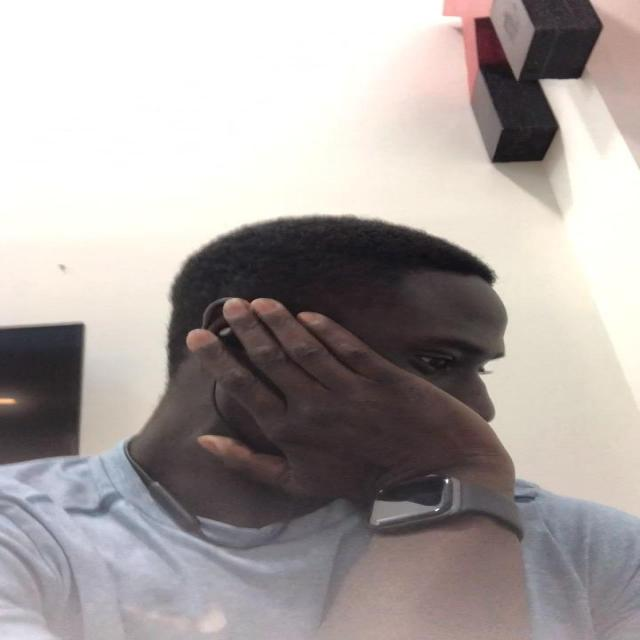face: (238, 286, 508, 462)
